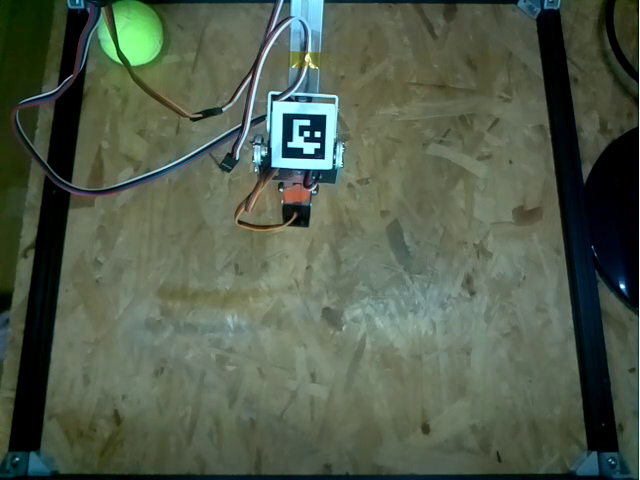tennis_ball: (94, 1, 165, 66)
